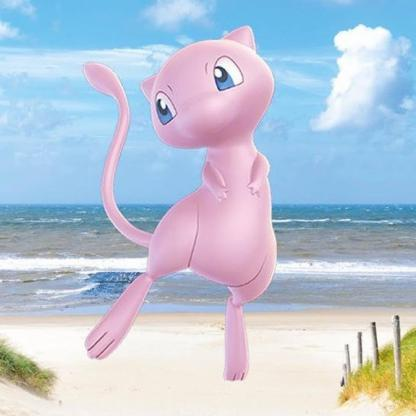Mew: (67, 23, 289, 397)
